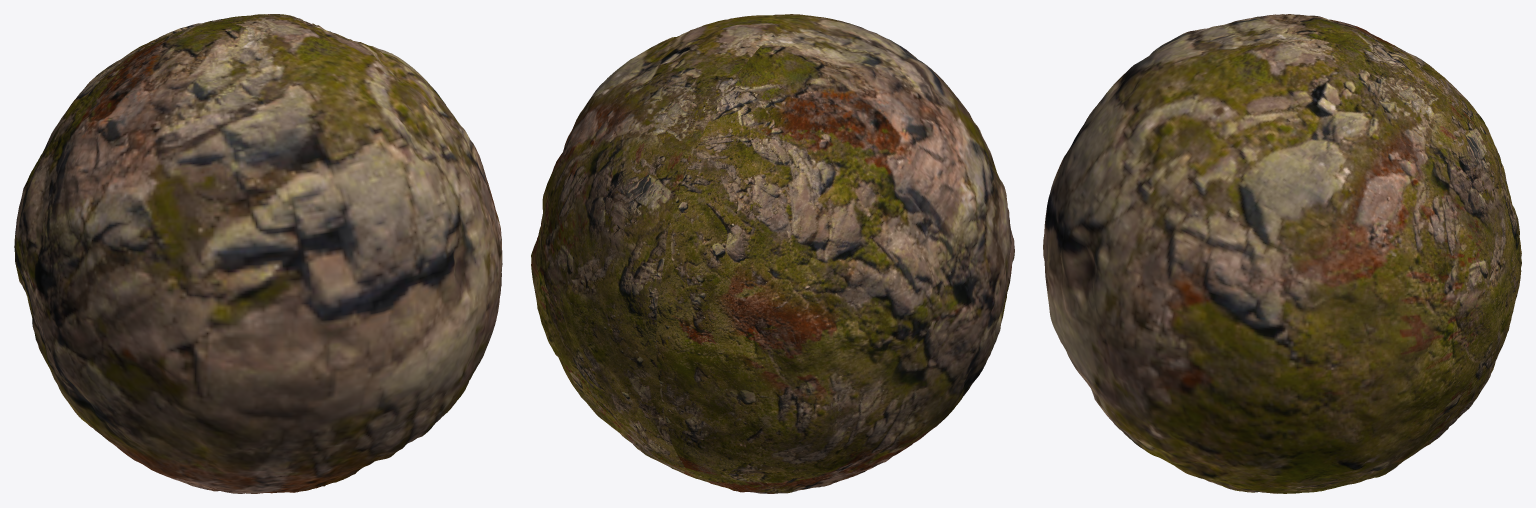
File: floatingRock.fbx
3 renders of one model, left to right at view 1: azimuth 30°, elevation 25°; view 2: azimuth 150°, elevation 25°; view 3: azimuth 270°, elevation 25°, orthographic.
Parts seen in each view (by area): view 1: Landscape; view 2: Landscape; view 3: Landscape.
Part boxes in pixels (x1,y1,x2,y2): Landscape: (14,14,502,493); Landscape: (531,14,1014,493); Landscape: (1043,14,1521,493).
Size of the model in its own units: 938 by 942 by 936.
1 material, 1 textured.
